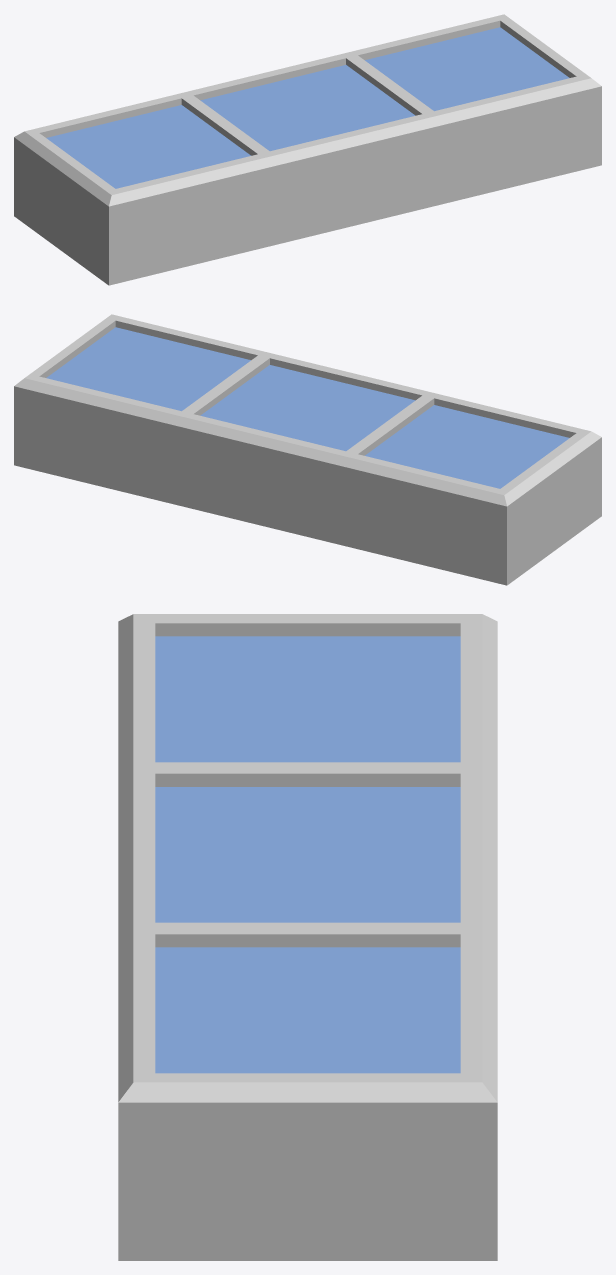
File: regal_kuehlfach_var2.fbx
The picture shows the model from 3 angles, top to bottom: view 1: azimuth 30°, elevation 25°; view 2: azimuth 150°, elevation 25°; view 3: azimuth 270°, elevation 25°; orthographic projection. The views are drawn at different scales.
Parts seen in each view (by area): view 1: Kuehlfach.001; view 2: Kuehlfach.001; view 3: Kuehlfach.001.
Part boxes in pixels (box(x1,y1,x2,y2)): Kuehlfach.001: box(14, 14, 601, 285); Kuehlfach.001: box(14, 314, 601, 585); Kuehlfach.001: box(118, 614, 497, 1260).
Size of the model in its own units: 300 by 50 by 100.
